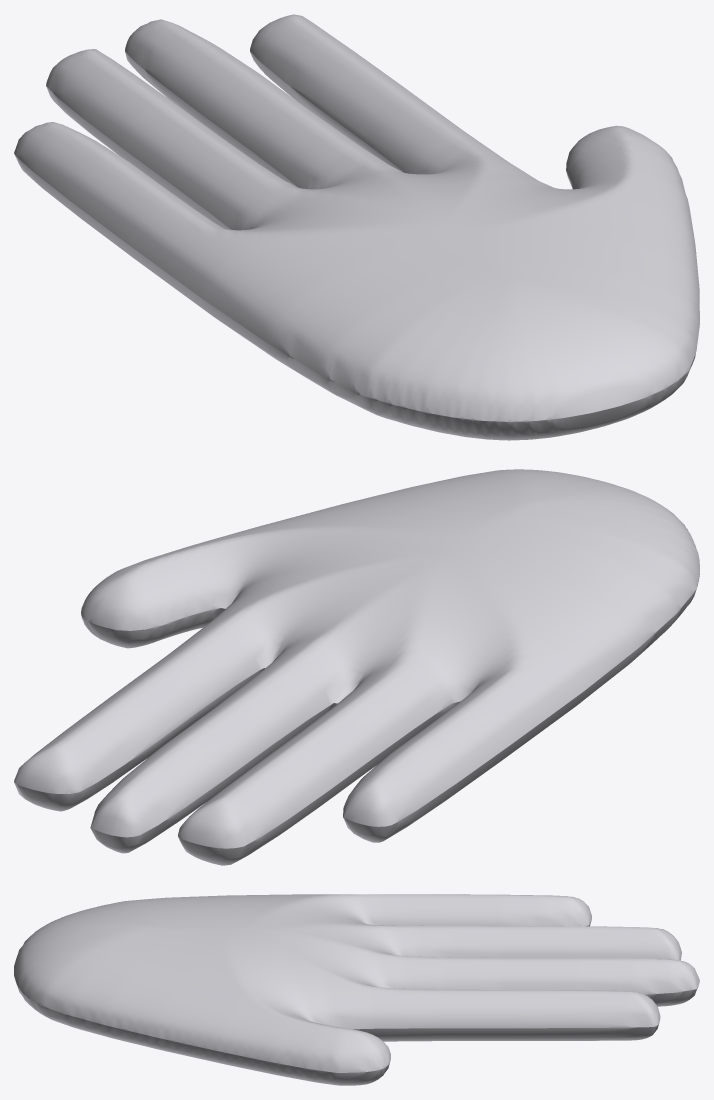
File: leapfrog_hand_left.obj
The picture shows the model from 3 angles, top to bottom: view 1: azimuth 30°, elevation 25°; view 2: azimuth 150°, elevation 25°; view 3: azimuth 270°, elevation 25°; orthographic projection. The views are drawn at different scales.
Bounding box in the file's own units: 0.1029 × 0.0252 × 0.18.
1 material, 1 textured.
